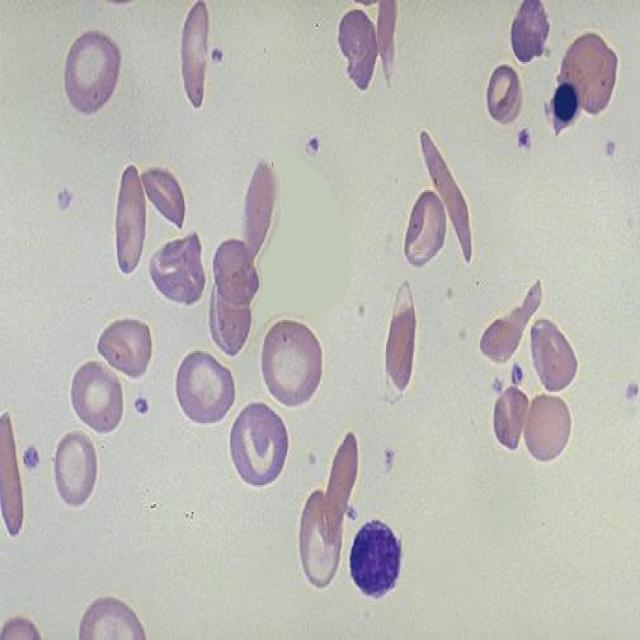sickle cell: (415, 118, 488, 280), (317, 425, 367, 549)
